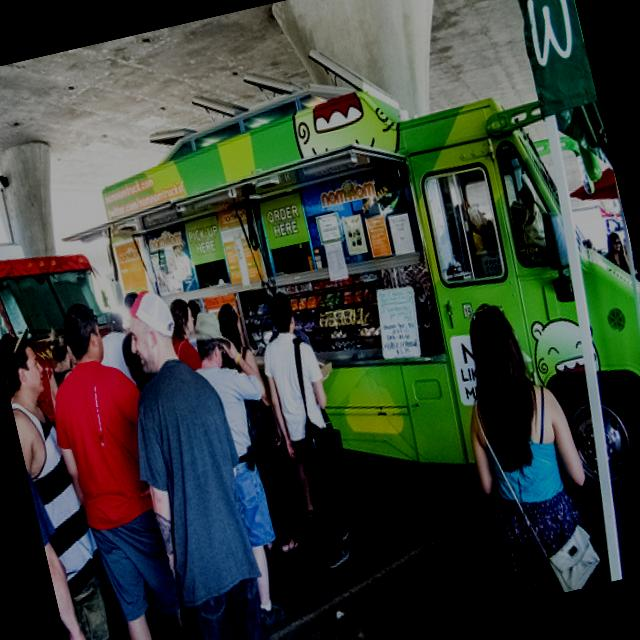Vehicle: (30, 0, 640, 610), (0, 235, 128, 375)
